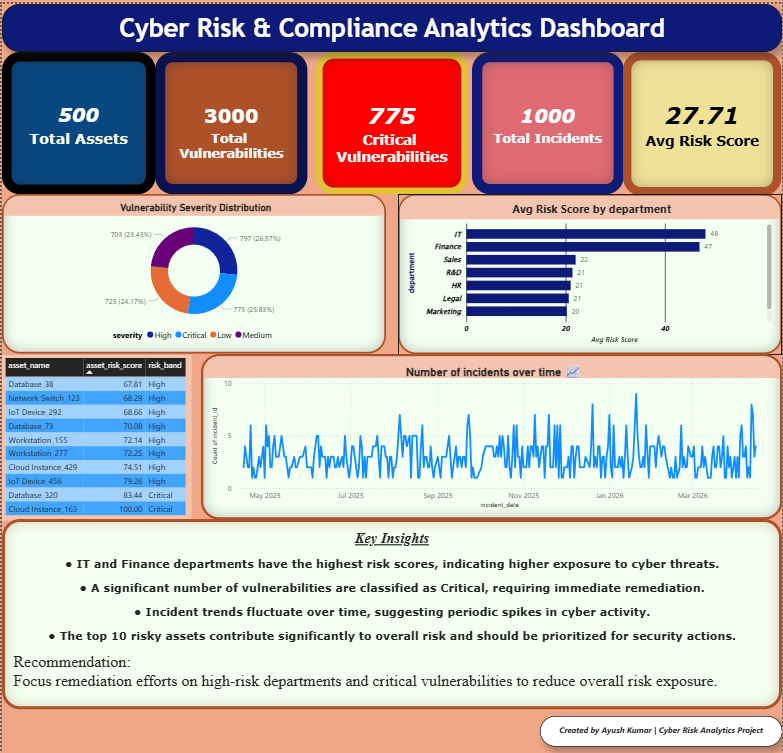

The page's visual inventory and layout, read from the dashboard file:
{"tool":"powerbi","page":{"name":"Page 1","canvas":[1300,2000],"ordinal":0},"visuals":[{"type":"card","fields":{"Values":["vulnerabilities_clean.Critical Vulnerabilities"]},"box":[522.9,80,252.9,237.1],"z":0},{"type":"card","fields":{"Values":["vulnerabilities_clean.Total Vulnerabilities"]},"box":[255.7,80,254.3,237.1],"z":1000},{"type":"card","fields":{"Values":["assets_clean.Total Assets"]},"box":[0,80,255.7,237.1],"z":2000},{"type":"card","fields":{"Values":["incidents_clean.Total Incidents"]},"box":[782.9,80,252.9,237.1],"z":3000},{"type":"card","fields":{"Values":["risk_scores_final.Avg Risk Score"]},"box":[1035.7,80,264.3,238.6],"z":4000},{"type":"clusteredBarChart","fields":{"Category":["assets_clean.department"],"Y":["risk_scores_final.Avg Risk Score"]},"box":[660,317.1,640,267.1],"z":5000},{"type":"donutChart","title":"Vulnerability Severity Distribution","fields":{"Category":["vulnerabilities_clean.severity"],"Y":["CountNonNull(vulnerabilities_clean.cve_id)"]},"box":[0,317.1,640,265.7],"z":6000},{"type":"lineChart","title":"Number of incidents over time 📈","fields":{"Y":["CountNonNull(incidents_clean.incident_id)"],"Category":["incidents_clean.incident_date"]},"box":[331.4,582.9,968.6,275.7],"z":7000},{"type":"tableEx","fields":{"Values":["assets_clean.asset_name","risk_scores_final.asset_risk_score","risk_scores_final.risk_band"]},"box":[0,584.3,315.7,275.7],"z":8000},{"type":"textbox","box":[0,858.6,1300,317.1],"z":9000},{"type":"textbox","box":[0,0,1300,80],"z":10000},{"type":"textbox","box":[896.2,1186.2,403.8,51.2],"z":11000}]}

Visuals, with their boxes on the page's 1300x2000 design canvas (x1, y1, x2, y2). These are canvas units, not pixel positions in the 783x753 screenshot, which may show the page scaled, cropped or inside an application window:
card - vulnerabilities_clean.Critical Vulnerabilities: detection(523, 80, 776, 317)
card - vulnerabilities_clean.Total Vulnerabilities: detection(256, 80, 510, 317)
card - assets_clean.Total Assets: detection(0, 80, 256, 317)
card - incidents_clean.Total Incidents: detection(783, 80, 1036, 317)
card - risk_scores_final.Avg Risk Score: detection(1036, 80, 1300, 319)
clusteredBarChart - assets_clean.department x risk_scores_final.Avg Risk Score: detection(660, 317, 1300, 584)
"Vulnerability Severity Distribution" donutChart: detection(0, 317, 640, 583)
"Number of incidents over time 📈" lineChart: detection(331, 583, 1300, 859)
tableEx - assets_clean.asset_name x risk_scores_final.asset_risk_score: detection(0, 584, 316, 860)
textbox: detection(0, 859, 1300, 1176)
textbox: detection(0, 0, 1300, 80)
textbox: detection(896, 1186, 1300, 1237)
